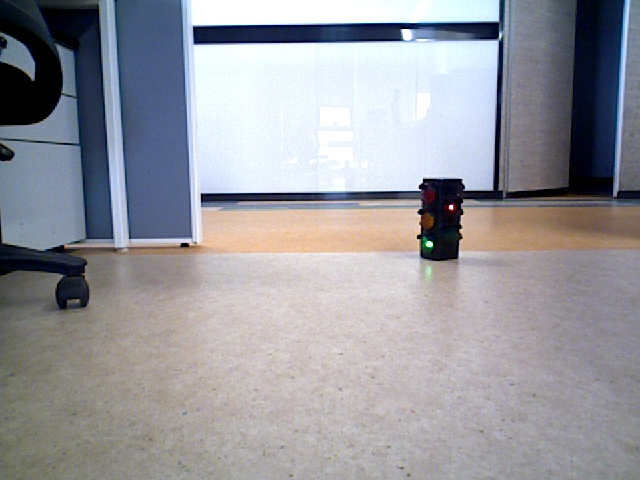green: (421, 181, 458, 255)
